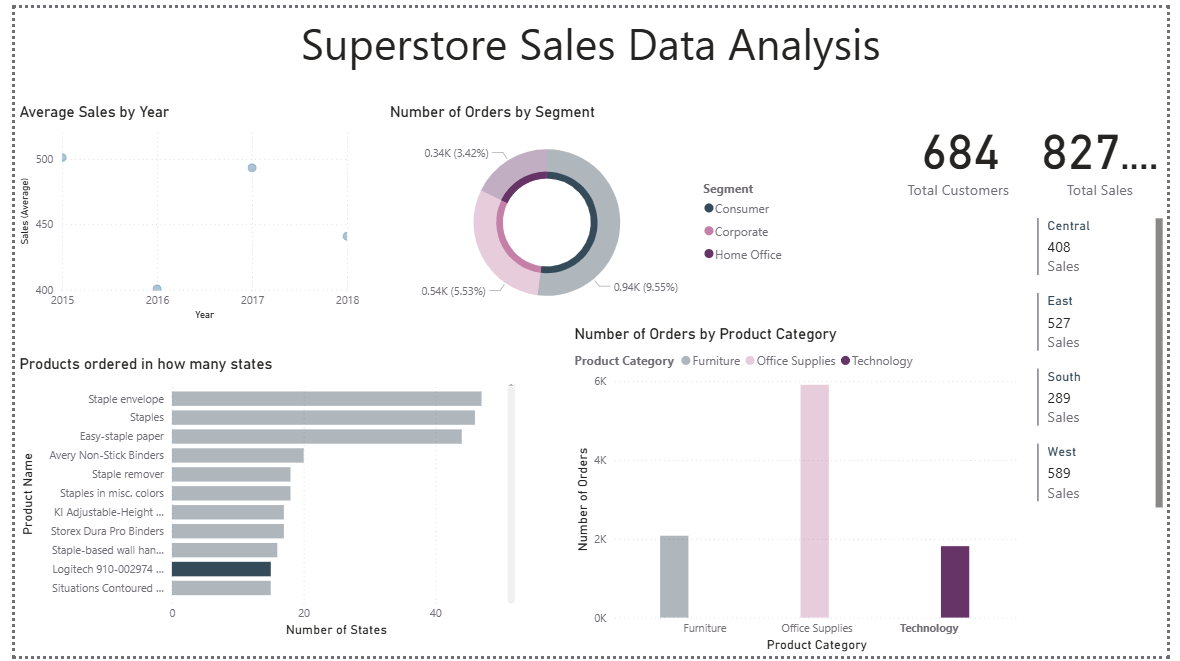

Layout of this report page (visuals, bound fields, positions):
{"tool":"powerbi","page":{"name":"Page 1","canvas":[1280,720],"ordinal":0},"visuals":[{"type":"scatterChart","title":"Average Sales by Year","fields":{"Y":["Avg(train.Sales)"],"X":["train.Order Year"]},"box":[0,105,386.7,246.7],"z":0},{"type":"card","fields":{"Values":["Count(train.Customer ID)"]},"box":[970,105,160,116.7],"z":1000},{"type":"clusteredBarChart","title":"Products ordered in how many states","fields":{"Category":["train.Product Name"],"Y":["CountNonNull(train.State)"]},"box":[0,385,560,318.3],"z":2000},{"type":"multiRowCard","fields":{"Values":["train.Region","CountNonNull(train.Sales (bins))"]},"box":[1130,228.3,150,343.3],"z":3000},{"type":"clusteredColumnChart","title":"Number of Orders by Product Category ","fields":{"Category":["train.Category","train.Sub-Category"],"Y":["CountNonNull(train.Order ID)"],"Series":["train.Category"]},"box":[616.7,351.7,503.3,368.3],"z":4000},{"type":"card","fields":{"Values":["Sum(train.Sales)"]},"box":[1130,105,150,116.7],"z":5000},{"type":"donutChart","fields":{"Series":["train.Segment"],"Y":["CountNonNull(train.Order ID)"]},"box":[411.7,105,455,246.7],"z":6000},{"type":"textbox","box":[0,0,1280,81.7],"z":7000}]}

Visuals, with their boxes in screenshot pixels (x1, y1, x2, y2), scaled from the page's 1280x720 canvas onto the 1180x661 screenshot:
"Average Sales by Year" scatterChart: 0, 96, 356, 323
card - Count(train.Customer ID): 894, 96, 1042, 204
"Products ordered in how many states" clusteredBarChart: 0, 353, 516, 646
multiRowCard - train.Region x CountNonNull(train.Sales (bins)): 1042, 210, 1179, 525
"Number of Orders by Product Category " clusteredColumnChart: 569, 323, 1032, 660
card - Sum(train.Sales): 1042, 96, 1179, 204
donutChart - train.Segment x CountNonNull(train.Order ID): 380, 96, 799, 323
textbox: 0, 0, 1179, 75
